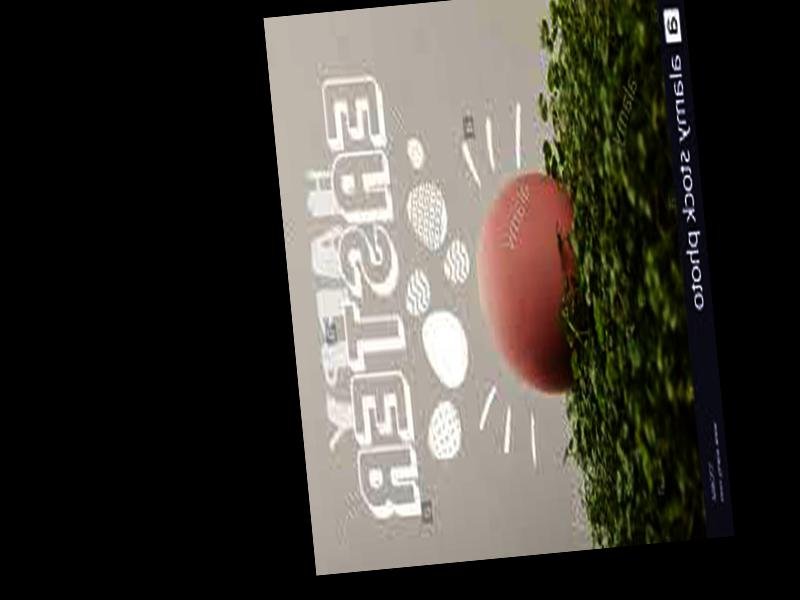Eggs: (470, 173, 591, 403)
